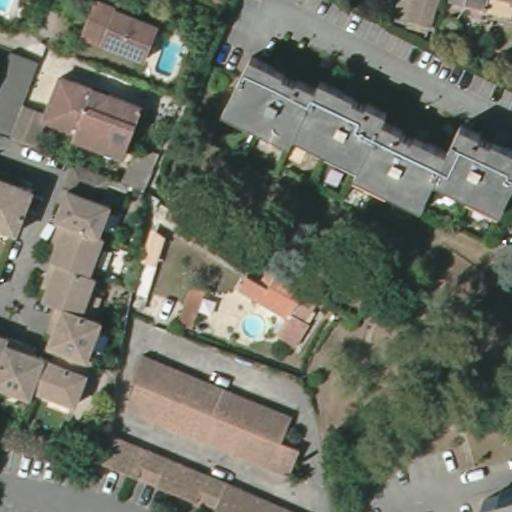pool: (154, 37, 184, 80), (237, 313, 266, 344), (0, 0, 16, 15)
